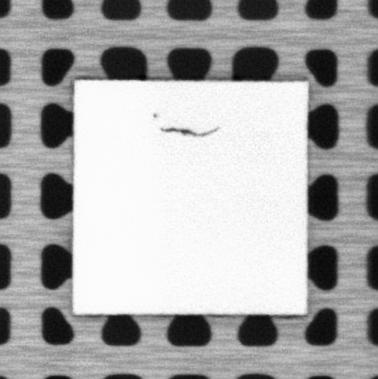DIE_INK: (161, 124, 222, 139), (150, 110, 160, 118)
